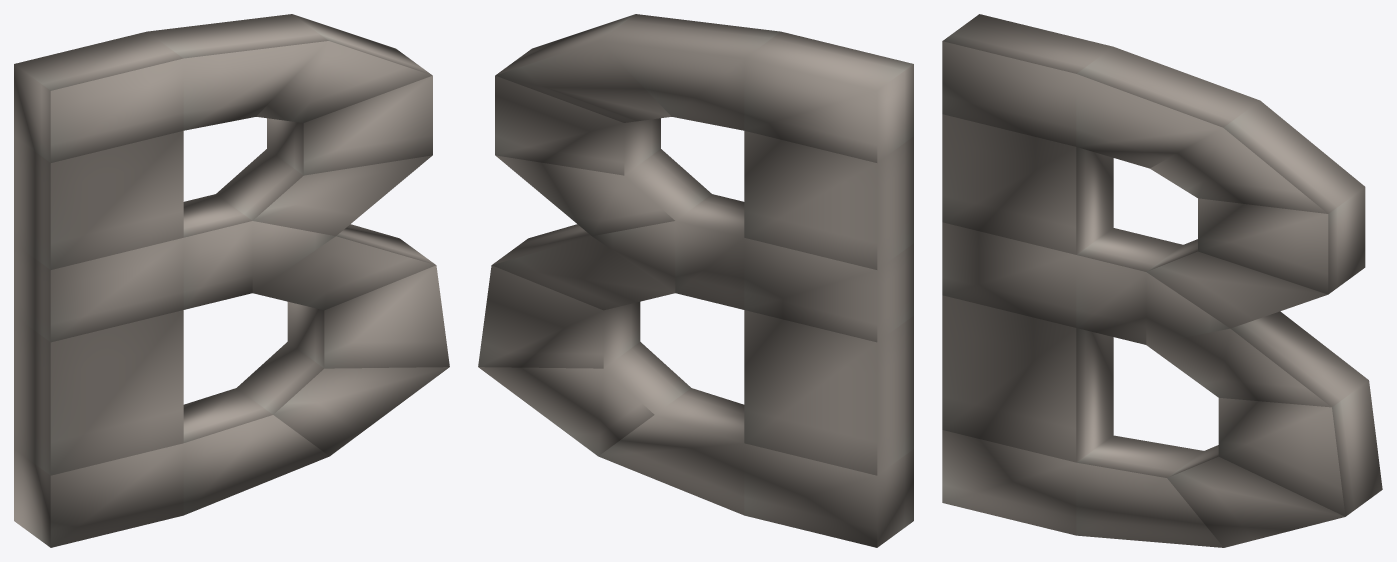
3 renders of one model, left to right at view 1: azimuth 30°, elevation 25°; view 2: azimuth 150°, elevation 25°; view 3: azimuth 330°, elevation 25°, orthographic.
Parts seen in each view (by area): view 1: T1L4M007_31; view 2: T1L4M007_31; view 3: T1L4M007_31.
Part boxes in pixels (<box>): T1L4M007_31: <box>14,14,449,547</box>; T1L4M007_31: <box>478,14,913,547</box>; T1L4M007_31: <box>942,14,1382,547</box>.
Size of the model in its own units: 0.4346 by 0.4756 by 0.0693.
